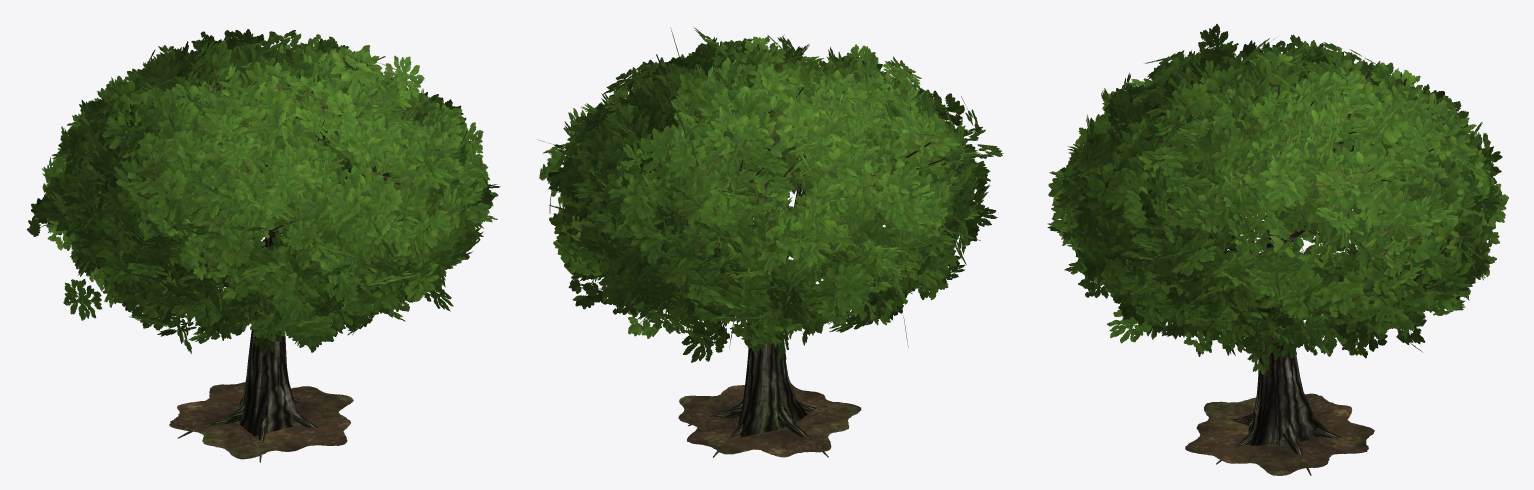
The model's file is oak-small-mid.glb.
3 views of the same model, side by side, from view 1: azimuth 30°, elevation 25°; view 2: azimuth 150°, elevation 25°; view 3: azimuth 270°, elevation 25° (orthographic). The views are drawn at different scales.
Visible parts, largest first — view 1: oak_small_mid; view 2: oak_small_mid; view 3: oak_small_mid.
Boxes of the visible parts, left/top/right/bottom form: oak_small_mid: left=26, top=29, right=500, bottom=462; oak_small_mid: left=539, top=27, right=1003, bottom=457; oak_small_mid: left=1047, top=24, right=1508, bottom=475.
Bounding box in the file's own units: 7.57 × 6.89 × 7.66.
1 material, 1 textured.
